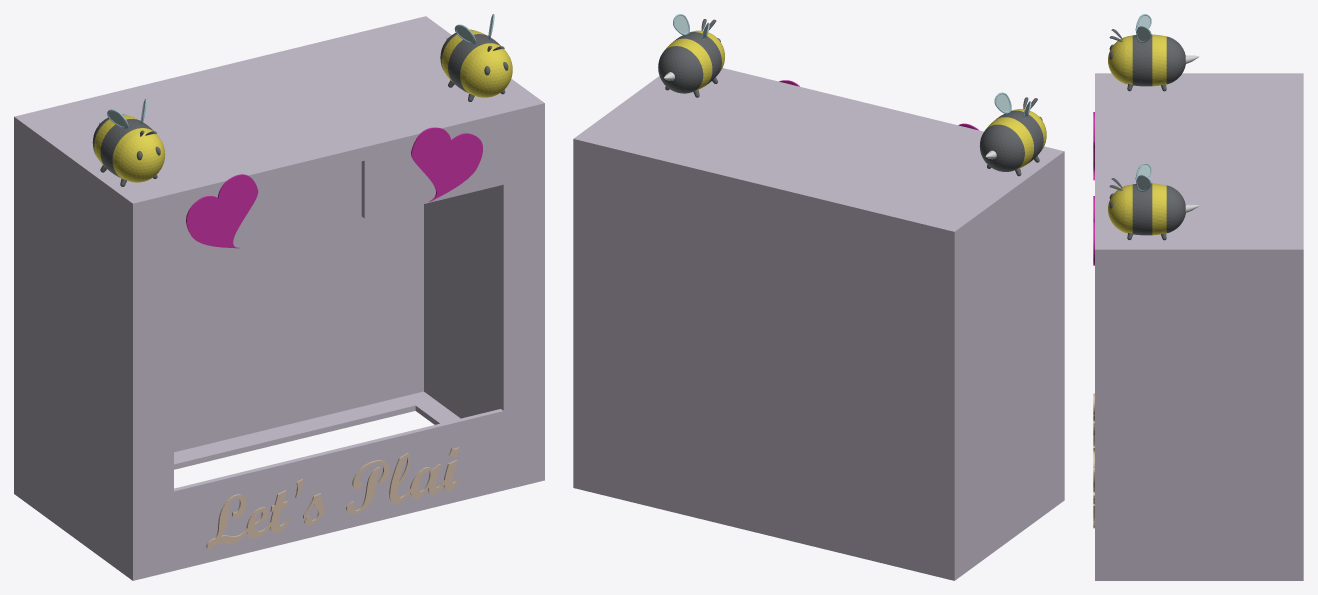
File: Let's Plai.glb
3 renders of one model, left to right at view 1: azimuth 30°, elevation 25°; view 2: azimuth 150°, elevation 25°; view 3: azimuth 270°, elevation 25°, orthographic. The views are drawn at different scales.
Parts seen in each view (by area): view 1: Mesh_Mesh_head_geo.001_lambert2SG.001; view 2: Mesh_Mesh_head_geo.001_lambert2SG.001; view 3: Mesh_Mesh_head_geo.001_lambert2SG.001.
Part boxes in pixels (x1=…): Mesh_Mesh_head_geo.001_lambert2SG.001: x1=14, y1=14, x2=544, y2=580; Mesh_Mesh_head_geo.001_lambert2SG.001: x1=573, y1=14, x2=1064, y2=580; Mesh_Mesh_head_geo.001_lambert2SG.001: x1=1093, y1=14, x2=1303, y2=580.
Size of the model in its own units: 0.16 by 0.1673 by 0.0806.
